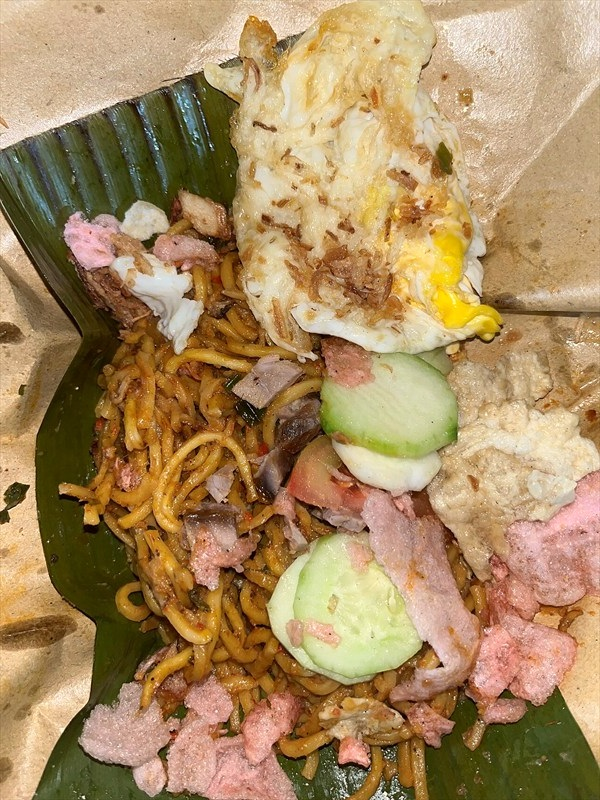Mie Goreng: (54, 159, 490, 755)
